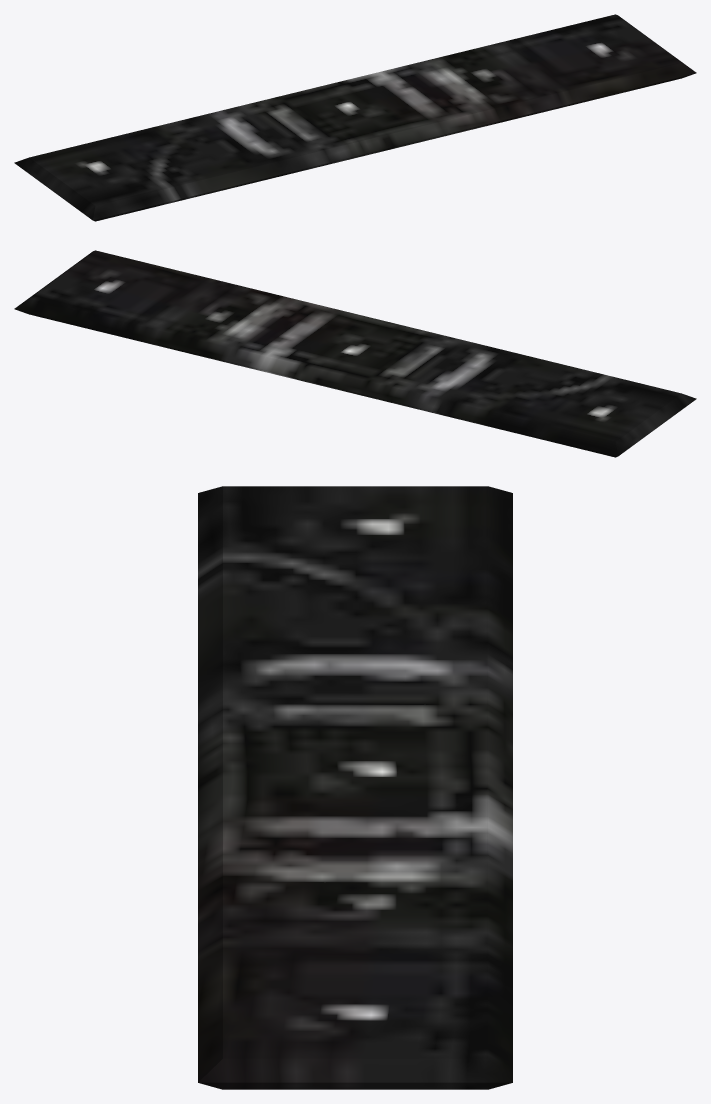
The model's file is KM_BELT_15.glb.
3 views of the same model, one above another, from view 1: azimuth 30°, elevation 25°; view 2: azimuth 150°, elevation 25°; view 3: azimuth 270°, elevation 25° (orthographic). The views are drawn at different scales.
Visible parts, largest first — view 1: KM_BELT_15; view 2: KM_BELT_15; view 3: KM_BELT_15.
Boxes of the visible parts, bbox=[...] form: KM_BELT_15: bbox=[14, 14, 696, 221]; KM_BELT_15: bbox=[14, 250, 696, 457]; KM_BELT_15: bbox=[198, 486, 512, 1089].
Size of the model in its own units: 0.372 by 0.0092 by 0.084.
1 material, 1 textured.
